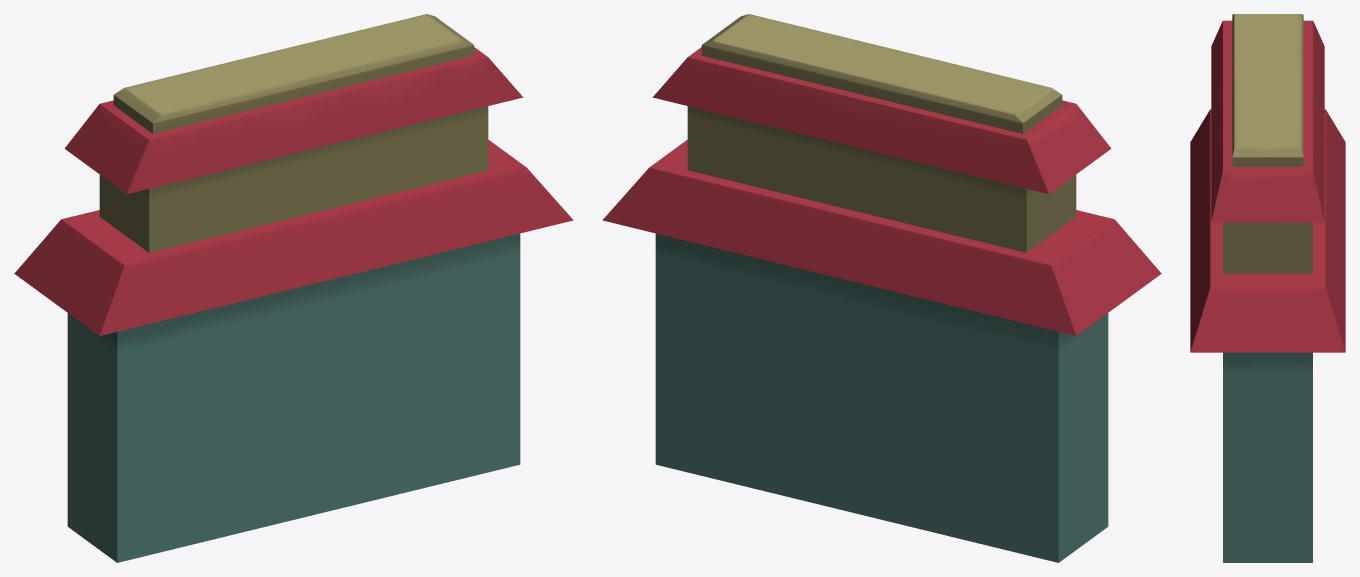
Rendered from build_small1.fbx.
3 renders of one model, left to right at view 1: azimuth 30°, elevation 25°; view 2: azimuth 150°, elevation 25°; view 3: azimuth 270°, elevation 25°, orthographic. The views are drawn at different scales.
Visible parts, largest first — view 1: build_small1; view 2: build_small1; view 3: build_small1.
Part boxes in pixels (bbox=[...]): build_small1: bbox=[14, 14, 573, 562]; build_small1: bbox=[602, 14, 1161, 562]; build_small1: bbox=[1190, 14, 1345, 562].
Bounding box in the file's own units: 2209 × 1920 × 688.
